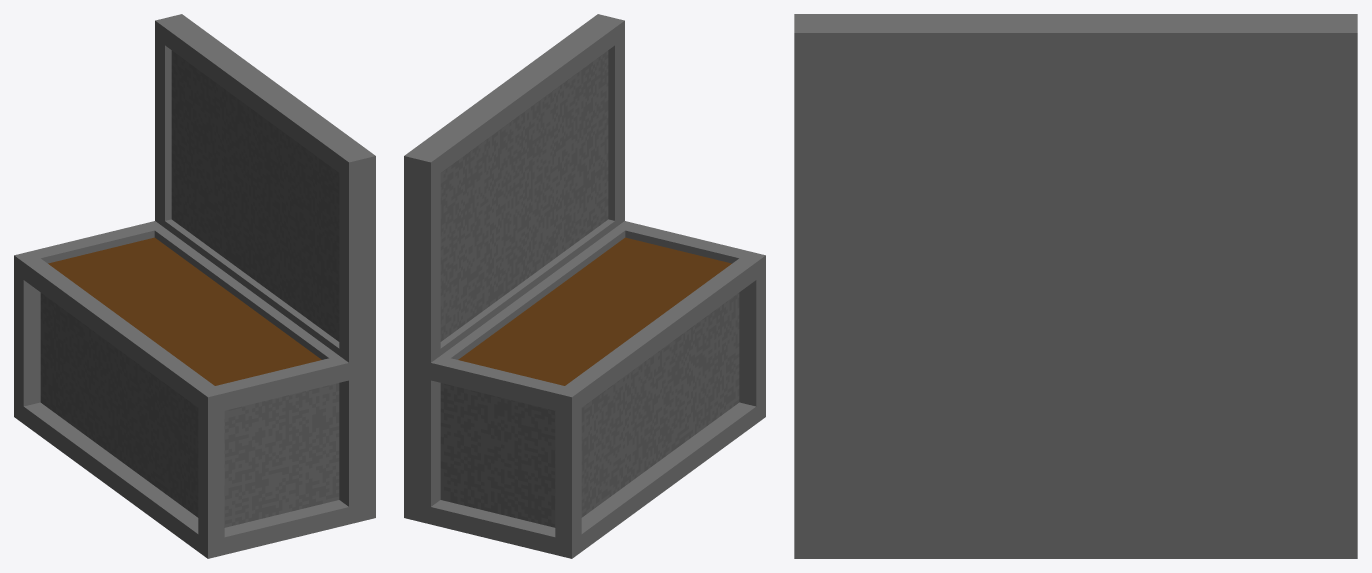
Rendered from stoika.obj.
The picture shows the model from 3 angles, left to right: view 1: azimuth 30°, elevation 25°; view 2: azimuth 150°, elevation 25°; view 3: azimuth 270°, elevation 25°; orthographic projection. The views are drawn at different scales.
Bounding box in the file's own units: 5 × 10.3 × 10.
